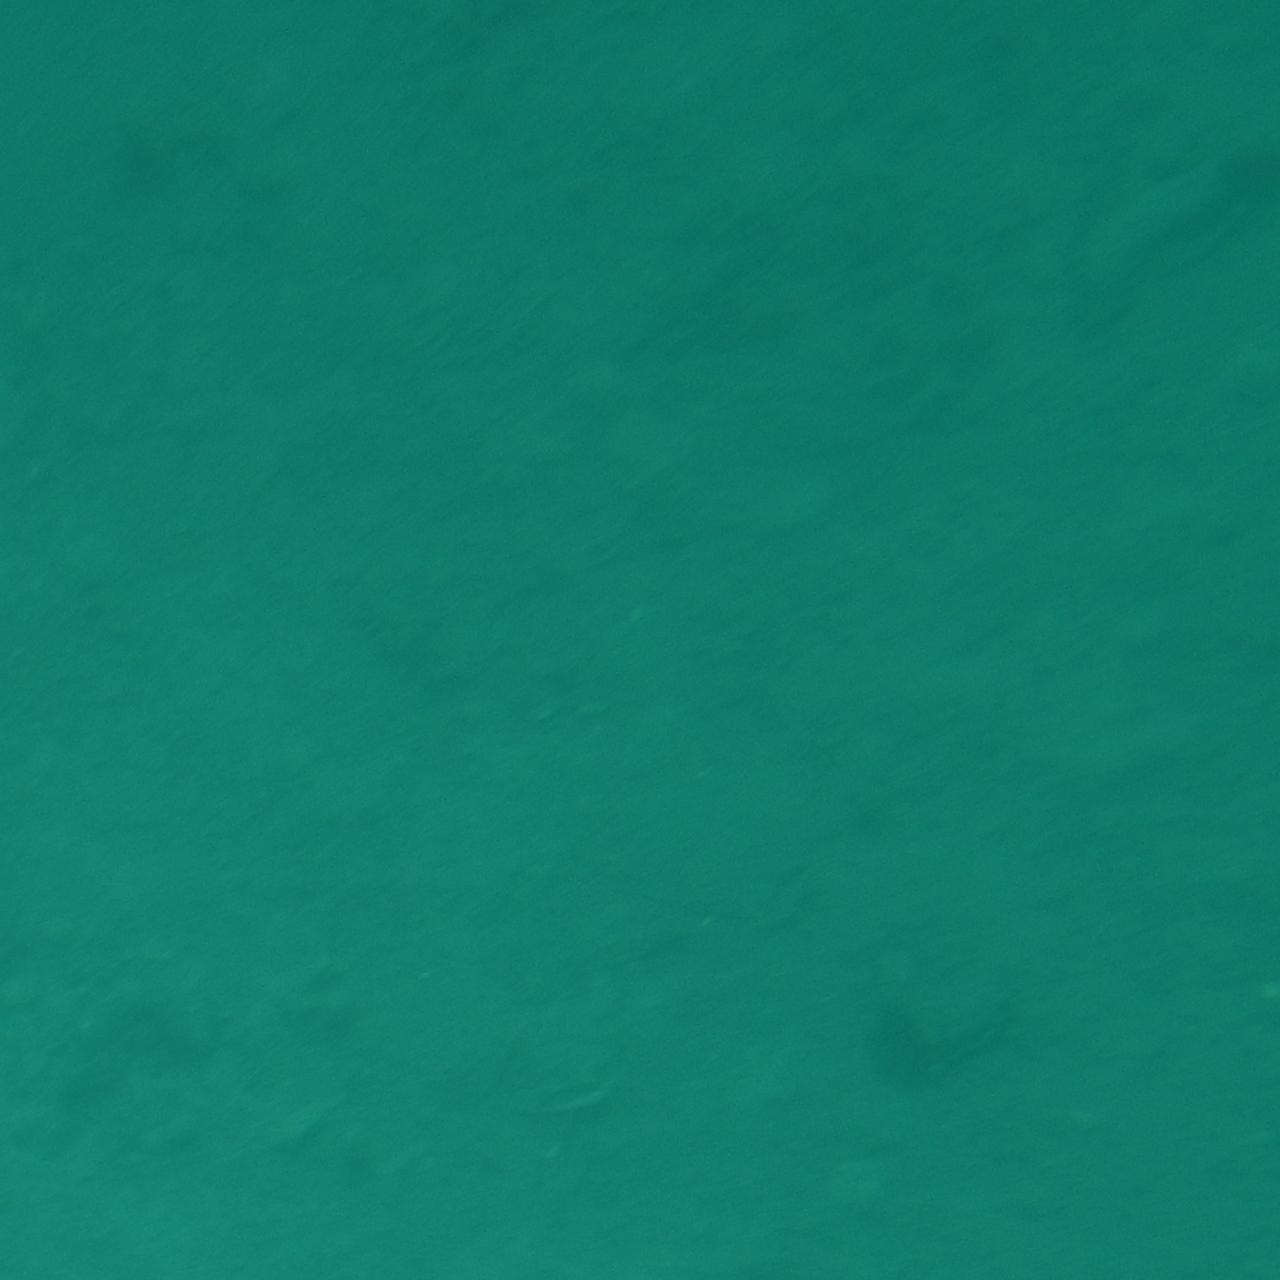Holothuria tubulosa: (1055, 117, 1276, 359), (855, 960, 1062, 1126)
